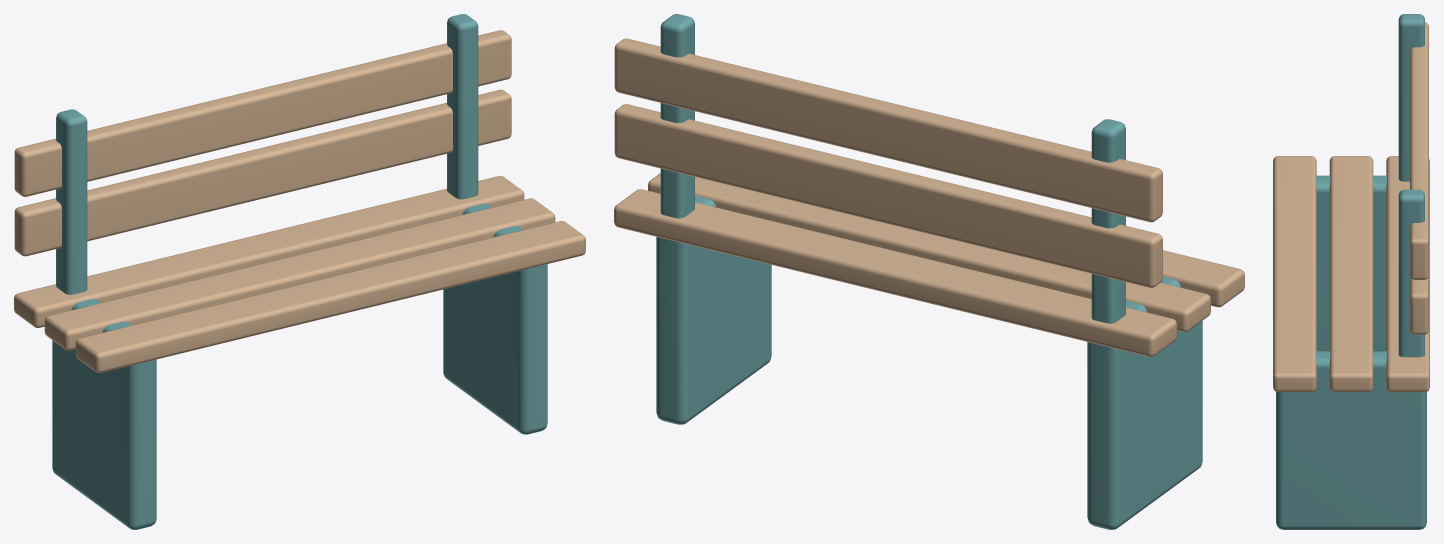
Rendered from Bench.fbx.
3 views of the same model, side by side, from view 1: azimuth 30°, elevation 25°; view 2: azimuth 150°, elevation 25°; view 3: azimuth 270°, elevation 25° (orthographic). The views are drawn at different scales.
Visible parts, largest first — view 1: BackSlat, BackSlat.001, SeatSlat, Leg, SeatSlat.001, Leg.001, SeatSlat.002, BackPost, BackPost.001; view 2: BackSlat.001, BackSlat, SeatSlat.002, Leg, Leg.001, SeatSlat.001, BackPost.001, BackPost, SeatSlat; view 3: Leg.001, SeatSlat.001, SeatSlat, Leg, SeatSlat.002, BackSlat.001, BackPost.001, BackPost, BackSlat.
Part boxes in pixels (box(x1,y1,x2,y2)): BackSlat: box(14, 89, 511, 256); BackSlat.001: box(14, 30, 511, 196); SeatSlat: box(75, 221, 585, 373); Leg: box(52, 299, 156, 529); SeatSlat.001: box(44, 198, 555, 350); Leg.001: box(443, 203, 547, 434); SeatSlat.002: box(14, 176, 524, 327); BackPost: box(56, 109, 87, 294); BackPost.001: box(447, 14, 478, 199); BackSlat.001: box(614, 38, 1162, 222); BackSlat: box(614, 104, 1162, 287); SeatSlat.002: box(614, 189, 1176, 356); Leg: box(1087, 276, 1202, 529); Leg.001: box(656, 195, 771, 424); SeatSlat.001: box(648, 173, 1210, 332); BackPost.001: box(660, 14, 694, 218); BackPost: box(1091, 119, 1125, 323); SeatSlat: box(1163, 250, 1244, 307); Leg.001: box(1276, 351, 1426, 529); SeatSlat.001: box(1329, 156, 1373, 391); SeatSlat: box(1273, 156, 1316, 391); Leg: box(1316, 175, 1386, 350); SeatSlat.002: box(1386, 156, 1429, 391); BackSlat.001: box(1410, 22, 1428, 279); BackPost.001: box(1398, 189, 1424, 357); BackPost: box(1398, 14, 1424, 181); BackSlat: box(1410, 276, 1428, 334).
Bounding box in the file's own units: 138 × 97.5 × 41.5.
